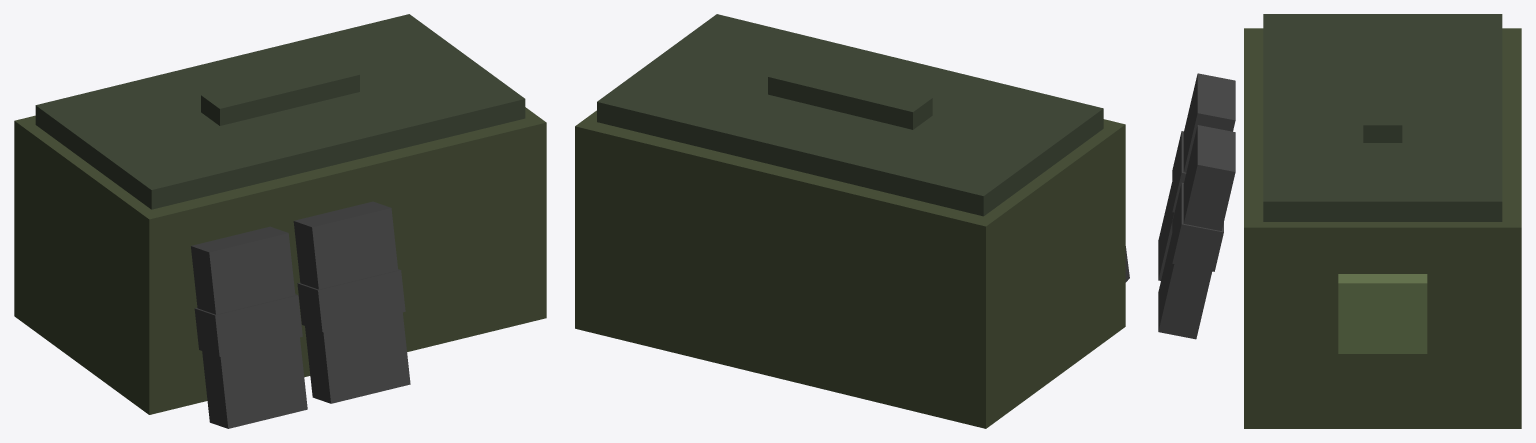
The model's file is ce_ammo_rifle_fmj_c.obj.
3 views of the same model, side by side, from view 1: azimuth 30°, elevation 25°; view 2: azimuth 150°, elevation 25°; view 3: azimuth 270°, elevation 25° (orthographic). The views are drawn at different scales.
Parts seen in each view (by area): view 1: ce_ammo_rifle_fmj_c_0, ce_ammo_rifle_fmj_c_1, ce_ammo_rifle_fmj_c_4, ce_ammo_rifle_fmj_c_6, ce_ammo_rifle_fmj_c_2, ce_ammo_rifle_fmj_c_7, ce_ammo_rifle_fmj_c_5; view 2: ce_ammo_rifle_fmj_c_0, ce_ammo_rifle_fmj_c_1, ce_ammo_rifle_fmj_c_2; view 3: ce_ammo_rifle_fmj_c_0, ce_ammo_rifle_fmj_c_1, ce_ammo_rifle_fmj_c_6, ce_ammo_rifle_fmj_c_3, ce_ammo_rifle_fmj_c_4, ce_ammo_rifle_fmj_c_2, ce_ammo_rifle_fmj_c_7, ce_ammo_rifle_fmj_c_5.
Part boxes in pixels (bbox=[...]): ce_ammo_rifle_fmj_c_0: bbox=[14, 107, 546, 414]; ce_ammo_rifle_fmj_c_1: bbox=[35, 14, 525, 209]; ce_ammo_rifle_fmj_c_4: bbox=[191, 226, 307, 428]; ce_ammo_rifle_fmj_c_6: bbox=[293, 201, 410, 403]; ce_ammo_rifle_fmj_c_2: bbox=[201, 61, 359, 125]; ce_ammo_rifle_fmj_c_7: bbox=[297, 269, 405, 331]; ce_ammo_rifle_fmj_c_5: bbox=[194, 294, 302, 356]; ce_ammo_rifle_fmj_c_0: bbox=[575, 110, 1125, 428]; ce_ammo_rifle_fmj_c_1: bbox=[597, 14, 1103, 216]; ce_ammo_rifle_fmj_c_2: bbox=[768, 62, 932, 129]; ce_ammo_rifle_fmj_c_0: bbox=[1244, 28, 1521, 428]; ce_ammo_rifle_fmj_c_1: bbox=[1263, 14, 1502, 221]; ce_ammo_rifle_fmj_c_6: bbox=[1158, 125, 1235, 339]; ce_ammo_rifle_fmj_c_3: bbox=[1338, 274, 1427, 353]; ce_ammo_rifle_fmj_c_4: bbox=[1158, 73, 1235, 280]; ce_ammo_rifle_fmj_c_2: bbox=[1363, 55, 1402, 142]; ce_ammo_rifle_fmj_c_7: bbox=[1172, 182, 1223, 271]; ce_ammo_rifle_fmj_c_5: bbox=[1172, 131, 1186, 212].
Bounding box in the file's own units: 0.89 × 0.475 × 0.6542.
